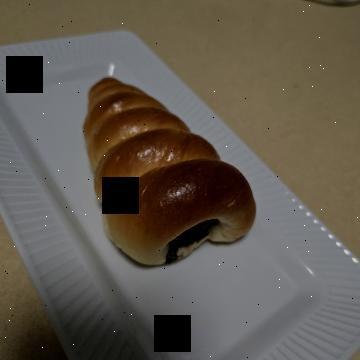cream horn: (59, 104, 288, 300)
